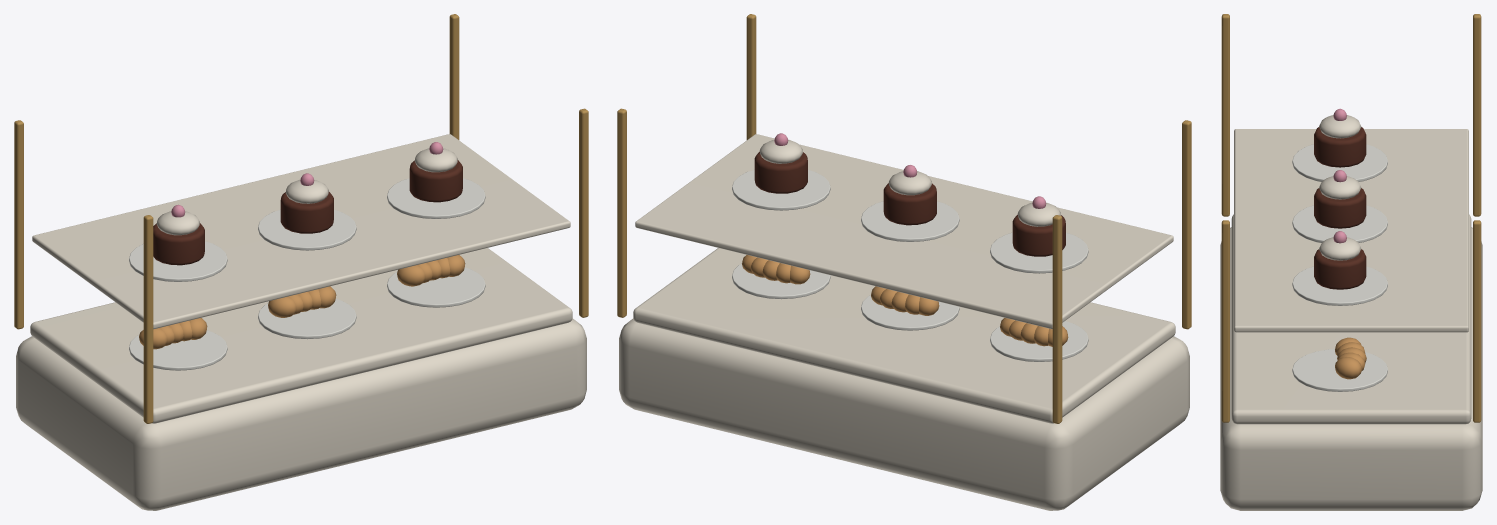
File: ce_pastry.glb
3 renders of one model, left to right at view 1: azimuth 30°, elevation 25°; view 2: azimuth 150°, elevation 25°; view 3: azimuth 270°, elevation 25°, orthographic. The views are drawn at different scales.
Visible parts, largest first — view 1: prop; view 2: prop; view 3: prop.
Boxes of the visible parts, x1,y1,x2,y2 form: prop: (14,14,588,510); prop: (617,14,1191,510); prop: (1220,14,1482,510).
Bounding box in the file's own units: 1.12 × 0.715 × 0.58.
